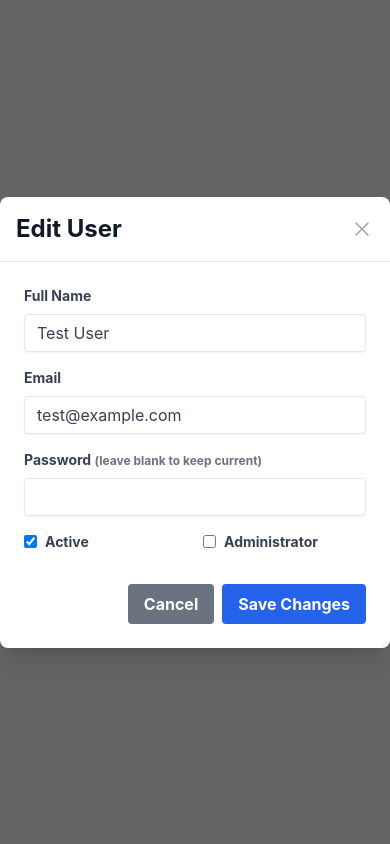
Test: UserFormModal › Edit Mode › displays error messages from API on failed user update
The width and height of the screenshot is (390, 844).
Clear the field labelled "Full Name" at (195,332), box 24,314 -> 366,352
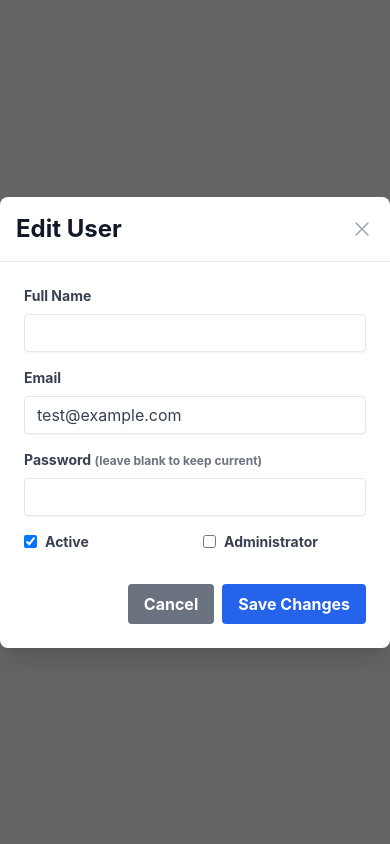
Click the button "Save Changes".
click(294, 604)  # box 222,584 -> 366,624
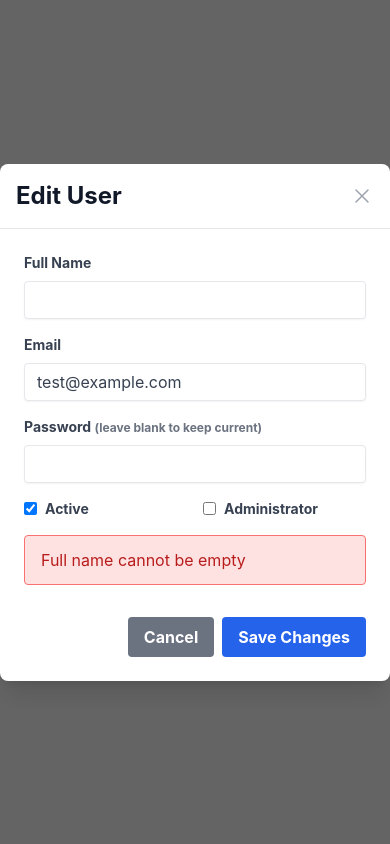
Expected: the text "Full name cannot be empty" is shown, 41,550 -> 246,570
